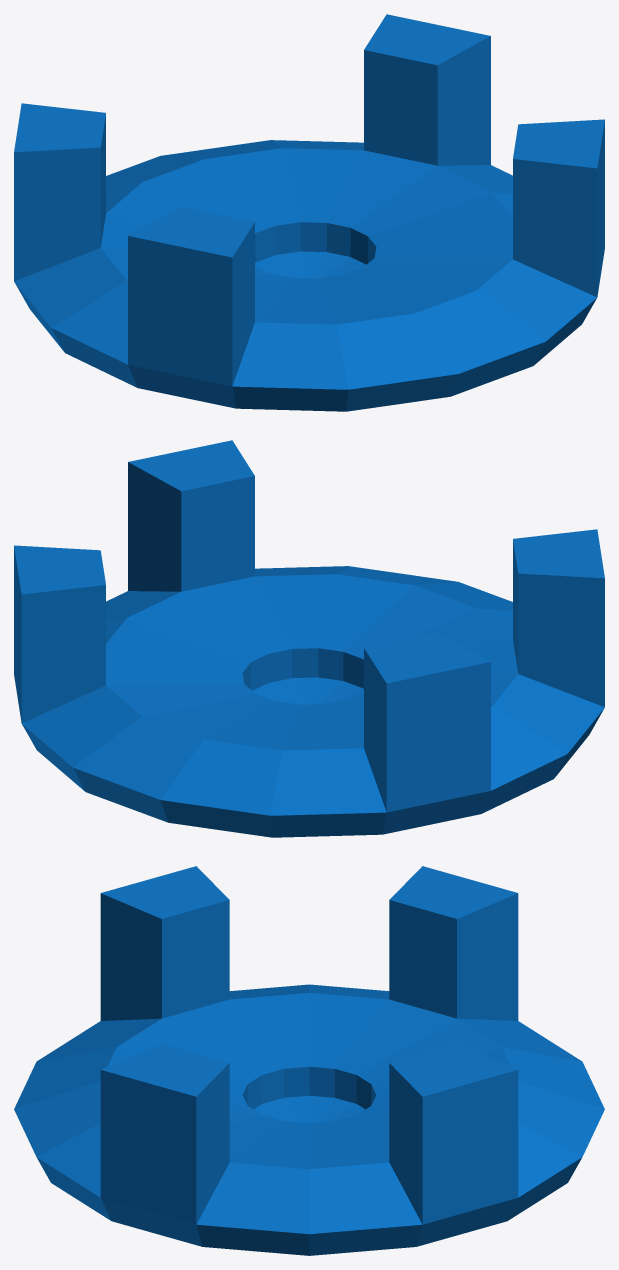
File: Hole_Bottom.obj
3 views of the same model, one above another, from view 1: azimuth 30°, elevation 25°; view 2: azimuth 150°, elevation 25°; view 3: azimuth 270°, elevation 25° (orthographic).
Parts seen in each view (by area): view 1: Hole_Bottom_Circle.001; view 2: Hole_Bottom_Circle.001; view 3: Hole_Bottom_Circle.001.
Part boxes in pixels (left/top/right/bottom): Hole_Bottom_Circle.001: left=14, top=14, right=604, bottom=411; Hole_Bottom_Circle.001: left=14, top=440, right=604, bottom=837; Hole_Bottom_Circle.001: left=14, top=866, right=604, bottom=1255.
Bounding box in the file's own units: 6.07 × 1.77 × 6.07.
